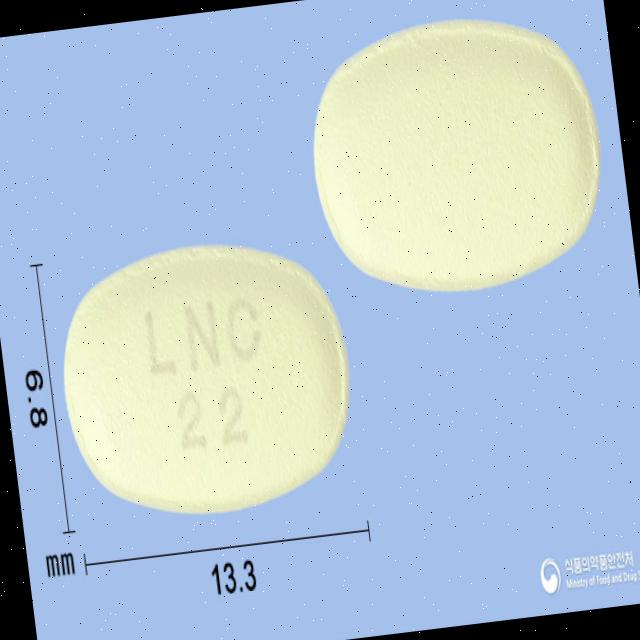Rithcinn Tab: (296, 1, 616, 308), (50, 227, 365, 529)
